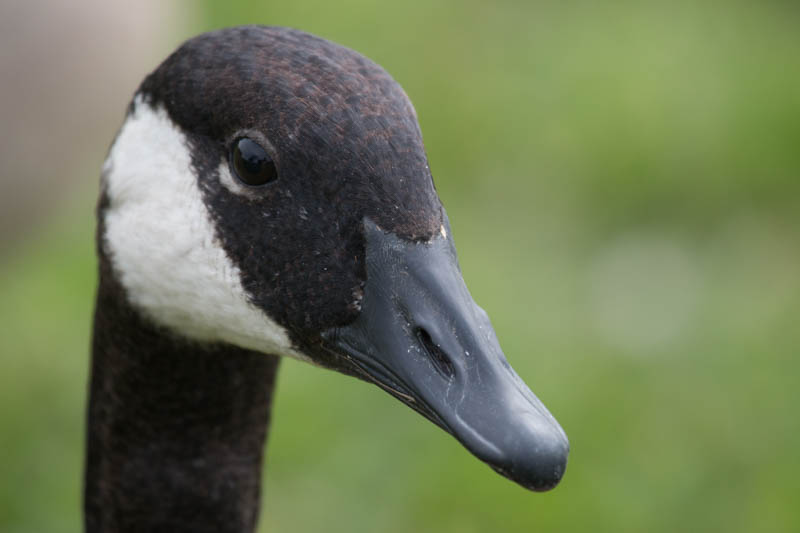goose-head: (95, 27, 569, 493)
